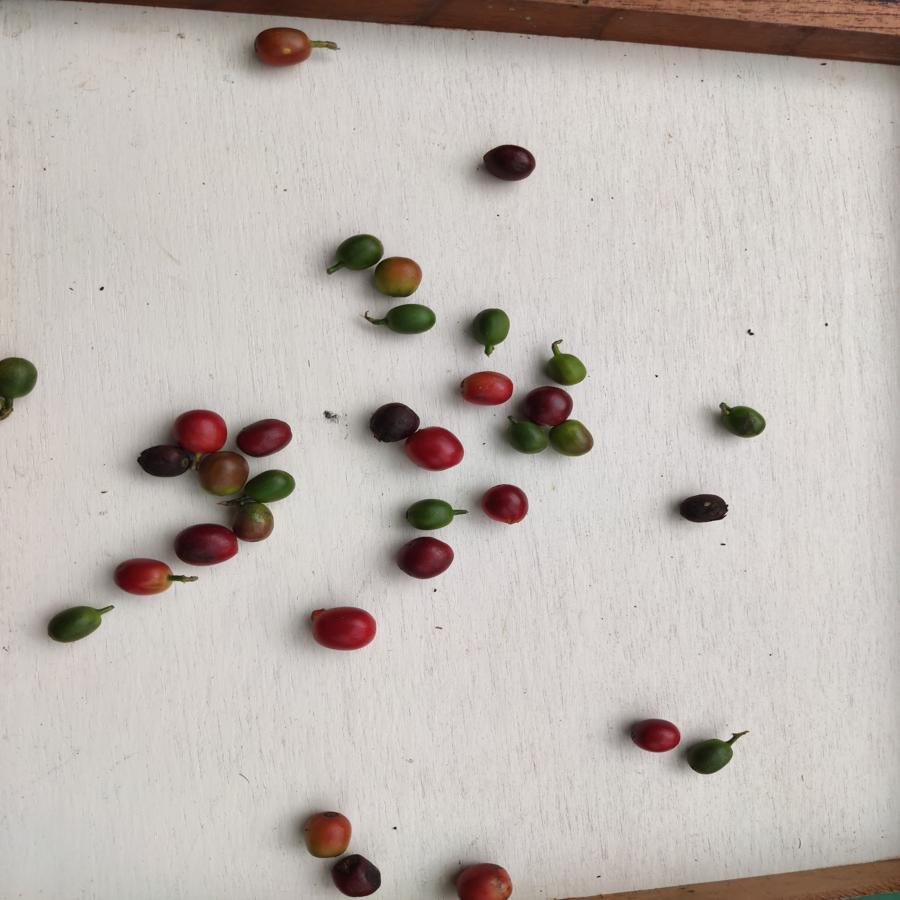Inmaduro: (46, 606, 104, 648), (1, 351, 40, 405), (380, 302, 437, 338), (246, 467, 299, 505), (402, 495, 456, 532), (715, 401, 764, 441), (685, 738, 737, 775), (551, 420, 600, 459), (333, 231, 379, 272), (546, 348, 589, 387), (470, 309, 511, 345), (507, 418, 547, 454)
Maduro: (306, 603, 377, 654), (453, 861, 518, 900), (112, 558, 178, 595), (407, 428, 465, 470), (172, 408, 228, 450), (456, 371, 516, 409)
Pinton: (248, 24, 318, 72), (194, 450, 250, 499), (302, 811, 354, 859), (376, 254, 422, 297), (233, 503, 275, 542)
Sobremaduro: (478, 140, 542, 189), (174, 523, 238, 568), (397, 534, 455, 583), (480, 480, 530, 528), (369, 398, 419, 445), (331, 854, 384, 898), (234, 419, 297, 454), (625, 716, 681, 755), (136, 444, 189, 480), (678, 493, 729, 527), (524, 387, 573, 420)
